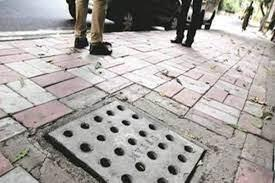open drainage-not overflowing-: (48, 96, 210, 183)
